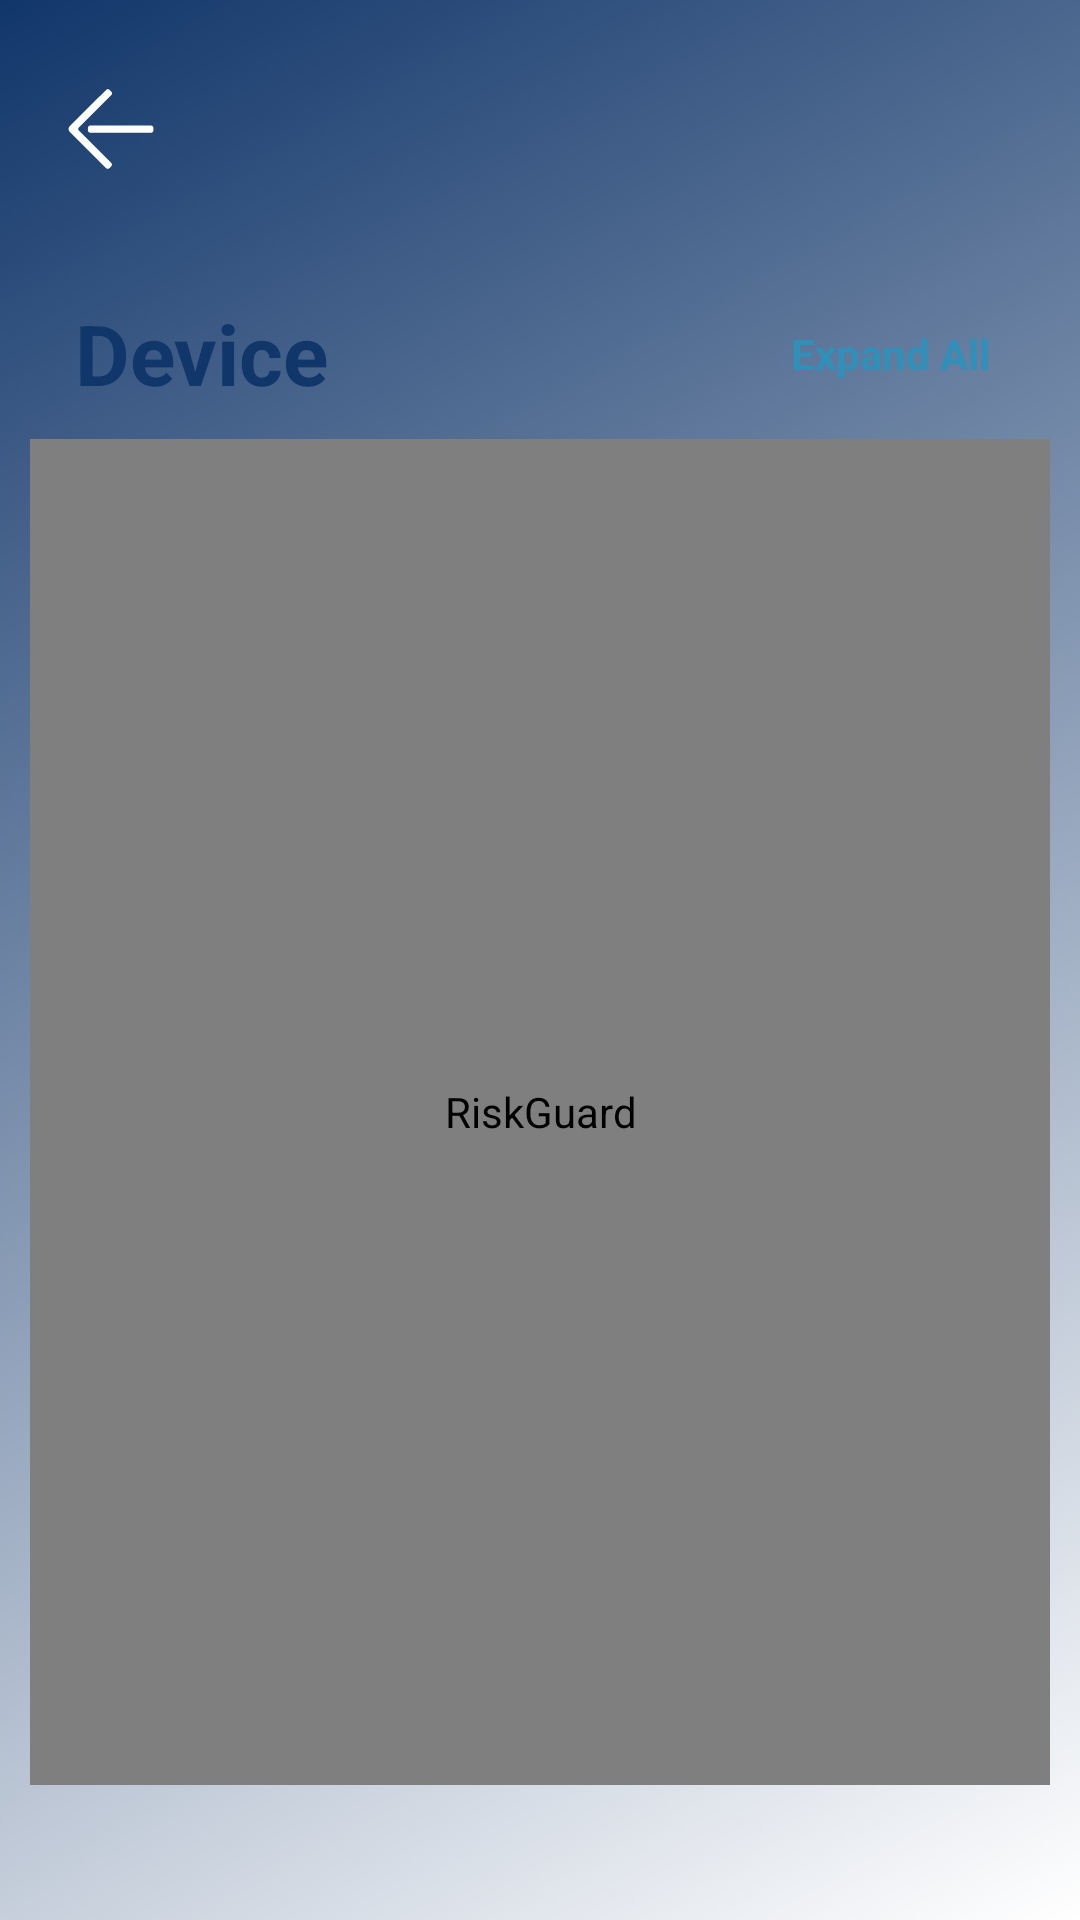

Named icons in this screenshot (1080*1920) and their centers, (x,y):
arrow left: (111,129)
